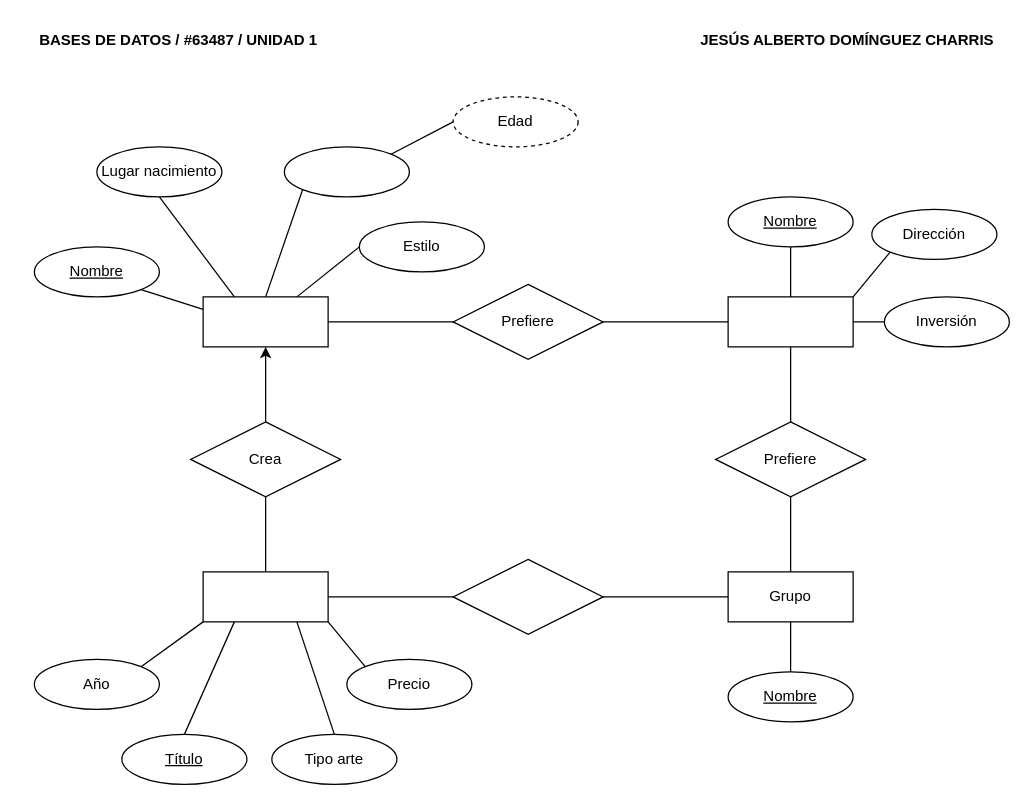
The diagram is 1031 pixels wide and 806 high, and some of its shapes have lost their labels. The shapes that lost their labels are listed below. From the top down, each one's centre as x and y in pixels, then its label:
(x=346, y=171): Fecha nacimiento
(x=265, y=321): Artista
(x=790, y=321): Clientes
(x=265, y=596): Obra
(x=527, y=596): Produce
